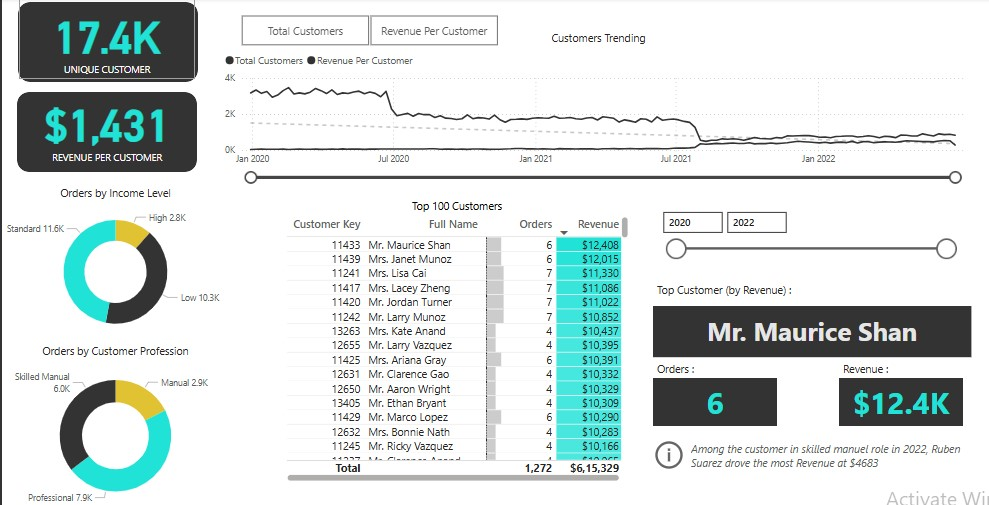

The dashboard page shown, as its layout file describes it:
{"tool":"powerbi","page":{"name":"Customer Details","canvas":[1280,720],"ordinal":3},"visuals":[{"type":"shape","box":[65,3.8,225,100],"z":0},{"type":"actionButton","box":[0,576.5,45,40],"z":0,"group":"g1"},{"type":"actionButton","box":[0,520.2,45,40],"z":1000,"group":"g1"},{"type":"shape","box":[63.8,116.2,225,100],"z":1000},{"type":"actionButton","box":[0,467.1,45,40],"z":2000,"group":"g1"},{"type":"card","fields":{"Values":["Meaure Table.Average Revenue Per Customer"]},"box":[61.2,103.8,230,112.5],"z":2000},{"type":"actionButton","box":[0,414,45,40],"z":3000,"group":"g1"},{"type":"card","fields":{"Values":["Meaure Table.Total Customers"]},"box":[66.2,0,220,100],"z":3000},{"type":"lineChart","title":"Customers Trending","fields":{"Y":["Meaure Table.Total Customers"],"Category":["Calendar Lookup.Date Hierarchy.Start of Year","Calendar Lookup.Date Hierarchy.Start of Month","Calendar Lookup.Date Hierarchy.Start of Week","Calendar Lookup.Date Hierarchy.Date"]},"box":[318.8,40,943.8,193.8],"z":4000},{"type":"donutChart","title":"Orders by Income Level","fields":{"Y":["Meaure Table.Total Orders"],"Series":["Customer Lookup.Income Level"]},"box":[31.2,233.8,311.2,197.5],"z":5000},{"type":"donutChart","title":"Orders by Customer Profession","fields":{"Y":["Meaure Table.Total Orders"],"Series":["Customer Lookup.Occupation"]},"box":[31.2,431.2,311.2,212.5],"z":6000},{"type":"tableEx","title":"Top 100 Customers","fields":{"Values":["Customer Lookup.CustomerKey","Customer Lookup.Full Name","Meaure Table.Total Orders","Meaure Table.Total Revenue"]},"box":[395,250,437.5,357.5],"z":7000},{"type":"card","fields":{"Values":["Meaure Table.Full Name (Customer details)"]},"box":[858.5,384,397.5,63.8],"z":8000},{"type":"card","fields":{"Values":["Meaure Table.Total Order (Customer datails)"]},"box":[858.8,473.8,155,60],"z":9000},{"type":"card","fields":{"Values":["Meaure Table.Total Revenue (Customer Details)"]},"box":[1091.2,473.8,155,60],"z":10000},{"type":"textbox","box":[858.5,350.2,190,57.5],"z":11000},{"type":"textbox","box":[858.5,448.8,155,36.2],"z":12000},{"type":"textbox","box":[1091,448.7,155,36.2],"z":13000},{"type":"shape","title":"Left Nav. Background","box":[0,0,45,711.2],"z":14000},{"type":"slicer","fields":{"Values":["Calendar Lookup.Year"]},"box":[858.5,256.2,387.5,88.8],"z":15000},{"type":"actionButton","box":[856.2,547.5,423.8,45],"z":16000},{"type":"actionButton","box":[0,0,45,40],"z":17000},{"type":"group","id":"g1","title":"Navigation Buttons","box":[0,414,45,202.5],"z":18000},{"type":"slicer","fields":{"Values":["Customer Metric Selection.Customer Metric Selection"]},"box":[318.8,13.8,370,51.2],"z":18501}]}

Visuals, with their boxes on the page's 1280x720 design canvas (x1, y1, x2, y2). These are canvas units, not pixel positions in the 989x505 screenshot, which may show the page scaled, cropped or inside an application window:
shape: pyautogui.locateOnScreen(65, 4, 290, 104)
actionButton: pyautogui.locateOnScreen(0, 576, 45, 616)
actionButton: pyautogui.locateOnScreen(0, 520, 45, 560)
shape: pyautogui.locateOnScreen(64, 116, 289, 216)
actionButton: pyautogui.locateOnScreen(0, 467, 45, 507)
card - Meaure Table.Average Revenue Per Customer: pyautogui.locateOnScreen(61, 104, 291, 216)
actionButton: pyautogui.locateOnScreen(0, 414, 45, 454)
card - Meaure Table.Total Customers: pyautogui.locateOnScreen(66, 0, 286, 100)
"Customers Trending" lineChart: pyautogui.locateOnScreen(319, 40, 1263, 234)
"Orders by Income Level" donutChart: pyautogui.locateOnScreen(31, 234, 342, 431)
"Orders by Customer Profession" donutChart: pyautogui.locateOnScreen(31, 431, 342, 644)
"Top 100 Customers" tableEx: pyautogui.locateOnScreen(395, 250, 832, 608)
card - Meaure Table.Full Name (Customer details): pyautogui.locateOnScreen(858, 384, 1256, 448)
card - Meaure Table.Total Order (Customer datails): pyautogui.locateOnScreen(859, 474, 1014, 534)
card - Meaure Table.Total Revenue (Customer Details): pyautogui.locateOnScreen(1091, 474, 1246, 534)
textbox: pyautogui.locateOnScreen(858, 350, 1048, 408)
textbox: pyautogui.locateOnScreen(858, 449, 1014, 485)
textbox: pyautogui.locateOnScreen(1091, 449, 1246, 485)
"Left Nav. Background" shape: pyautogui.locateOnScreen(0, 0, 45, 711)
slicer - Calendar Lookup.Year: pyautogui.locateOnScreen(858, 256, 1246, 345)
actionButton: pyautogui.locateOnScreen(856, 548, 1280, 592)
actionButton: pyautogui.locateOnScreen(0, 0, 45, 40)
"Navigation Buttons" group: pyautogui.locateOnScreen(0, 414, 45, 616)
slicer - Customer Metric Selection.Customer Metric Selection: pyautogui.locateOnScreen(319, 14, 689, 65)
